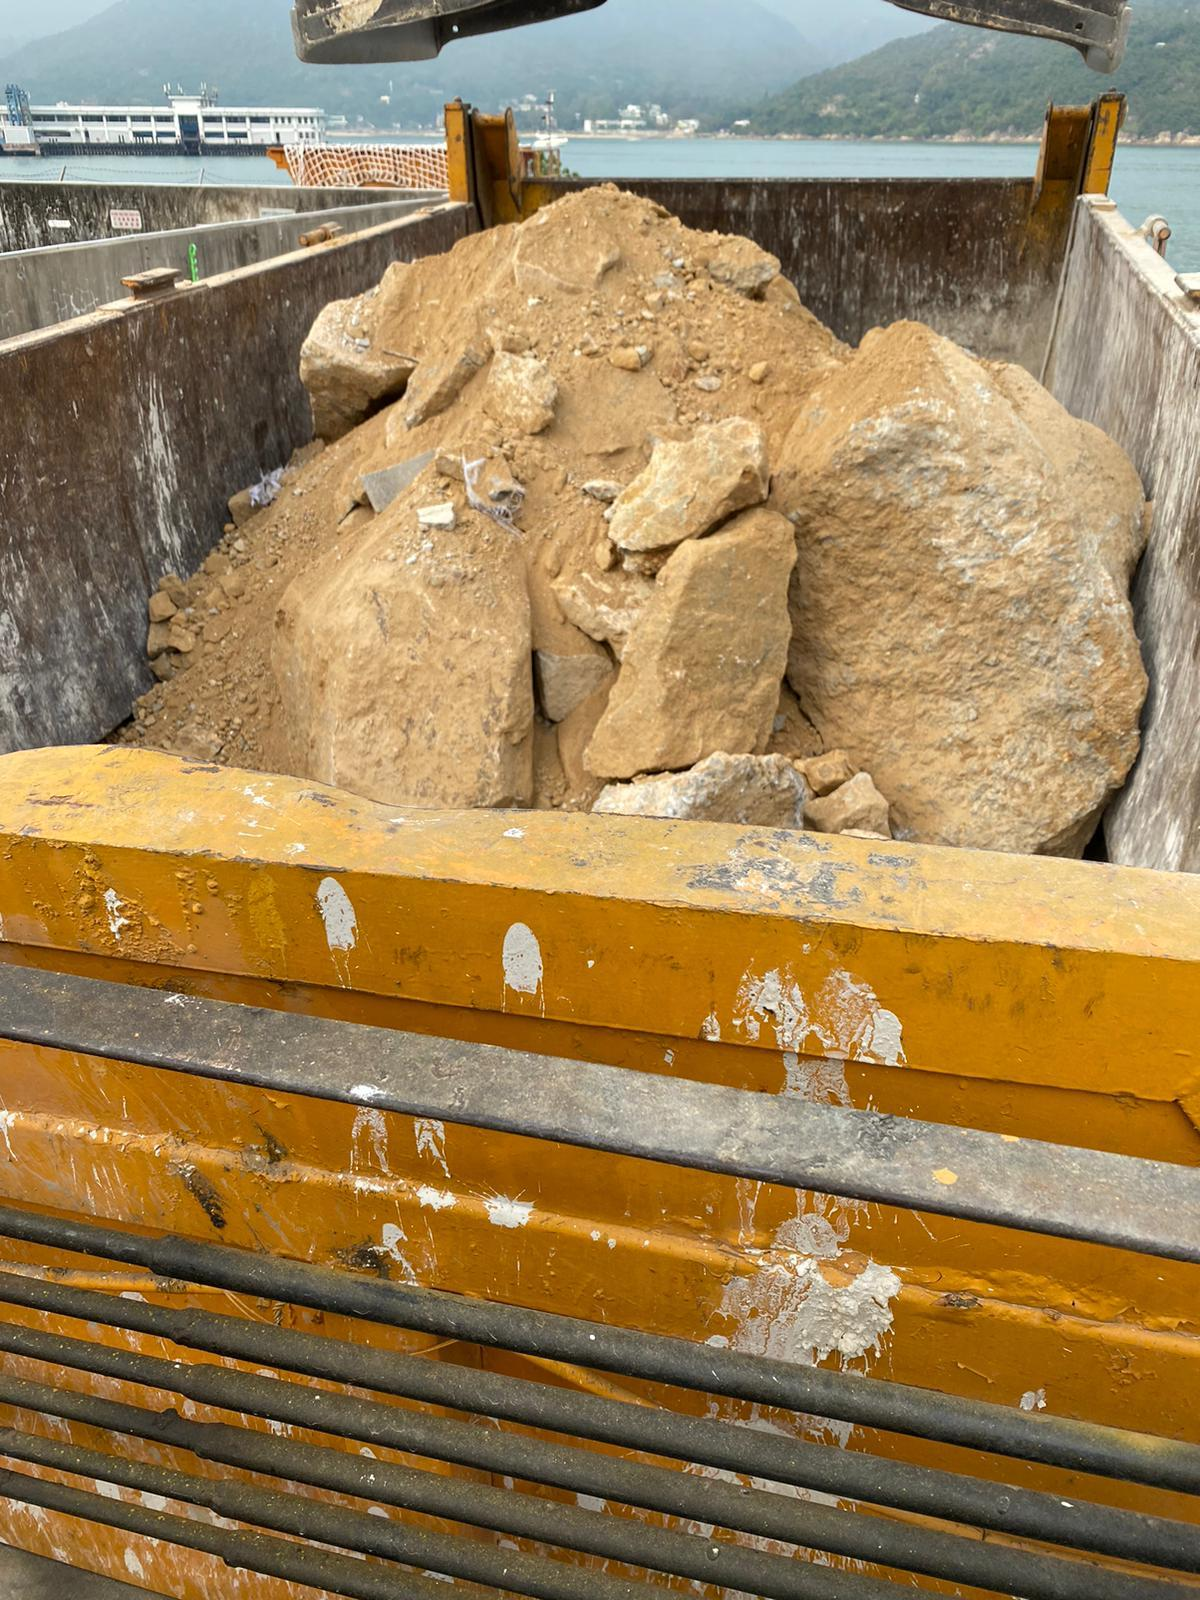dry: (149, 193, 1129, 848)
